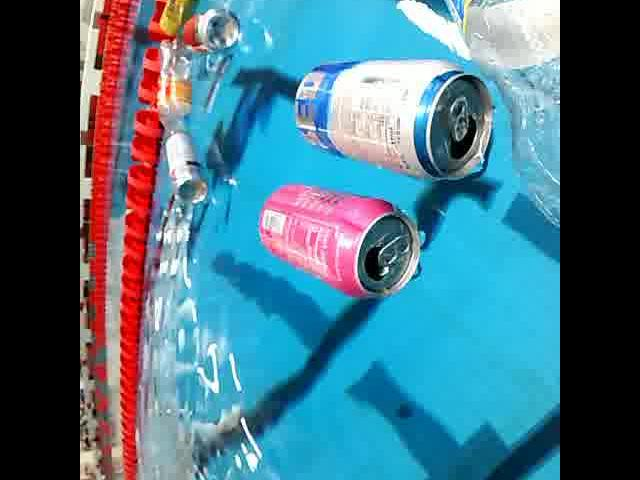Bottle: (422, 0, 560, 232), (154, 33, 198, 138)
Can: (288, 51, 502, 184), (259, 176, 429, 302), (161, 126, 213, 208), (182, 2, 245, 60), (156, 0, 206, 40)
